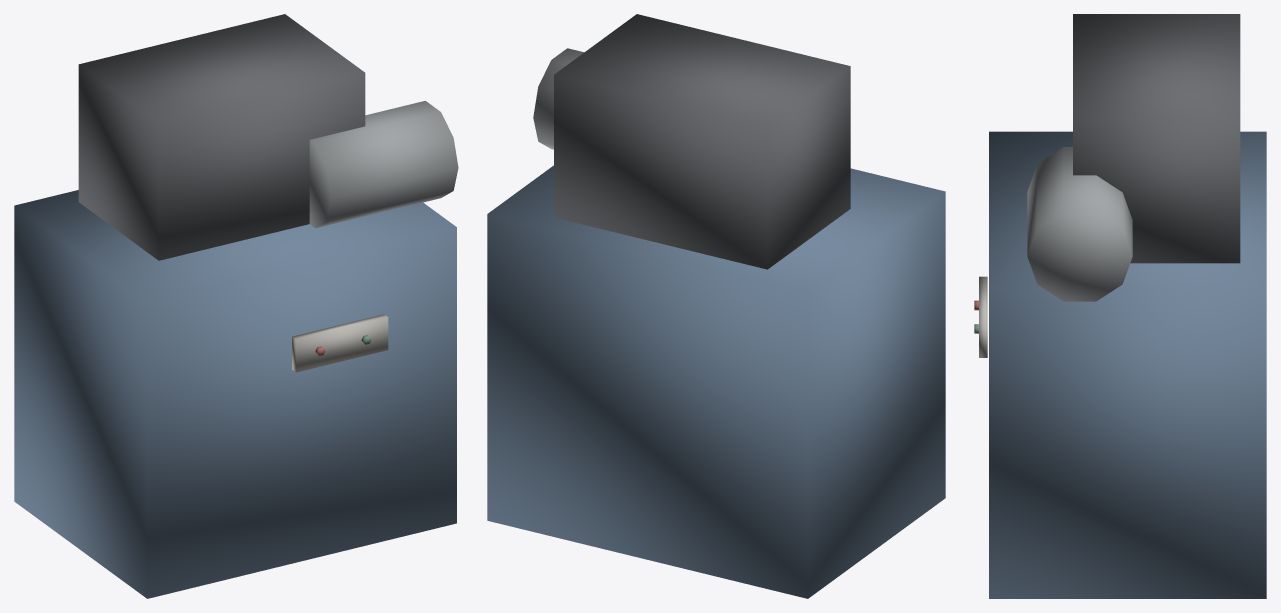
The model's file is rolling_tool_chest__reinforced.glb.
3 renders of one model, left to right at view 1: azimuth 30°, elevation 25°; view 2: azimuth 150°, elevation 25°; view 3: azimuth 270°, elevation 25°, orthographic. The views are drawn at different scales.
Visible parts, largest first — view 1: world; view 2: world; view 3: world.
Part boxes in pixels (x1,y1,x2,y2): world: (14, 14, 458, 598); world: (487, 14, 945, 598); world: (974, 14, 1266, 598).
Bounding box in the file's own units: 0.8549 × 1.08 × 0.6293.
